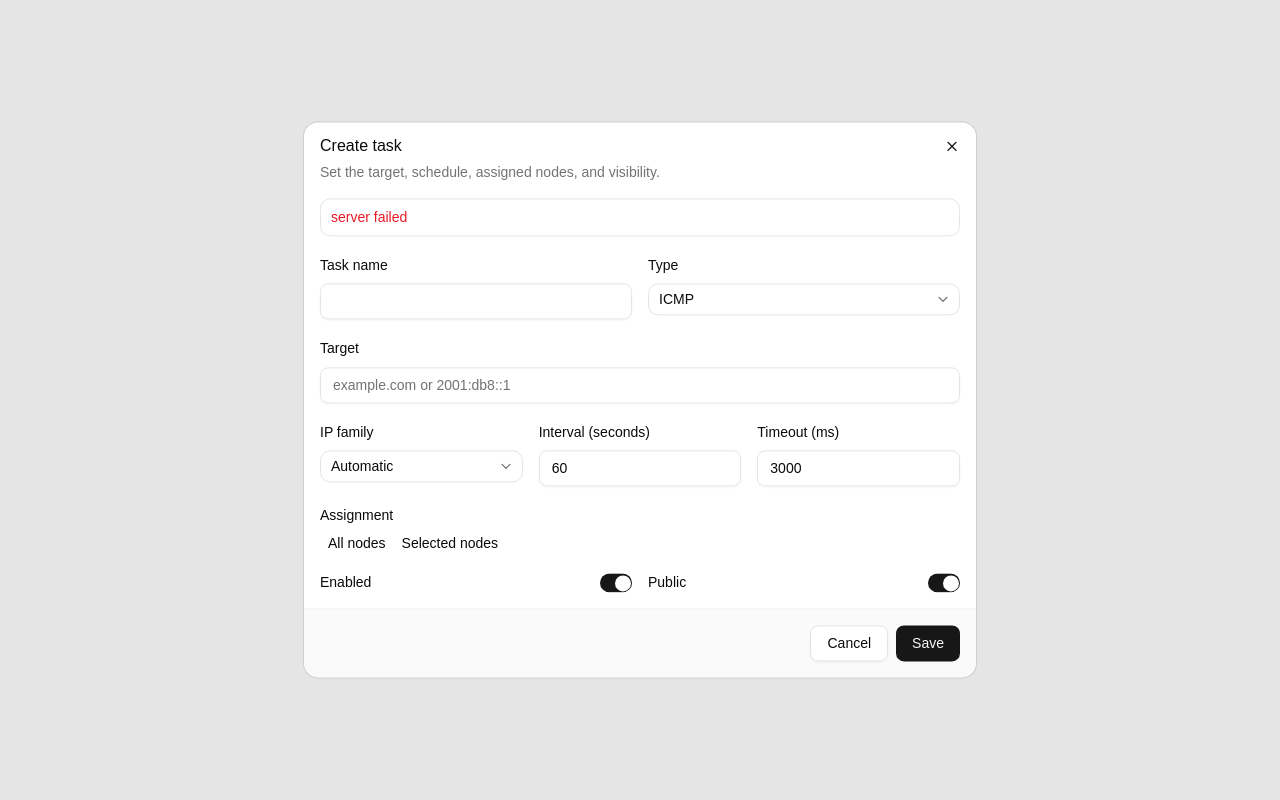
Test case: network admin components › validates required and timing fields
This screenshot has width=1280, height=800.
Expected: the text "server failed" is shown, [331,209,407,225]
Click the button "Save" at (928, 644), box [896,626,960,662]
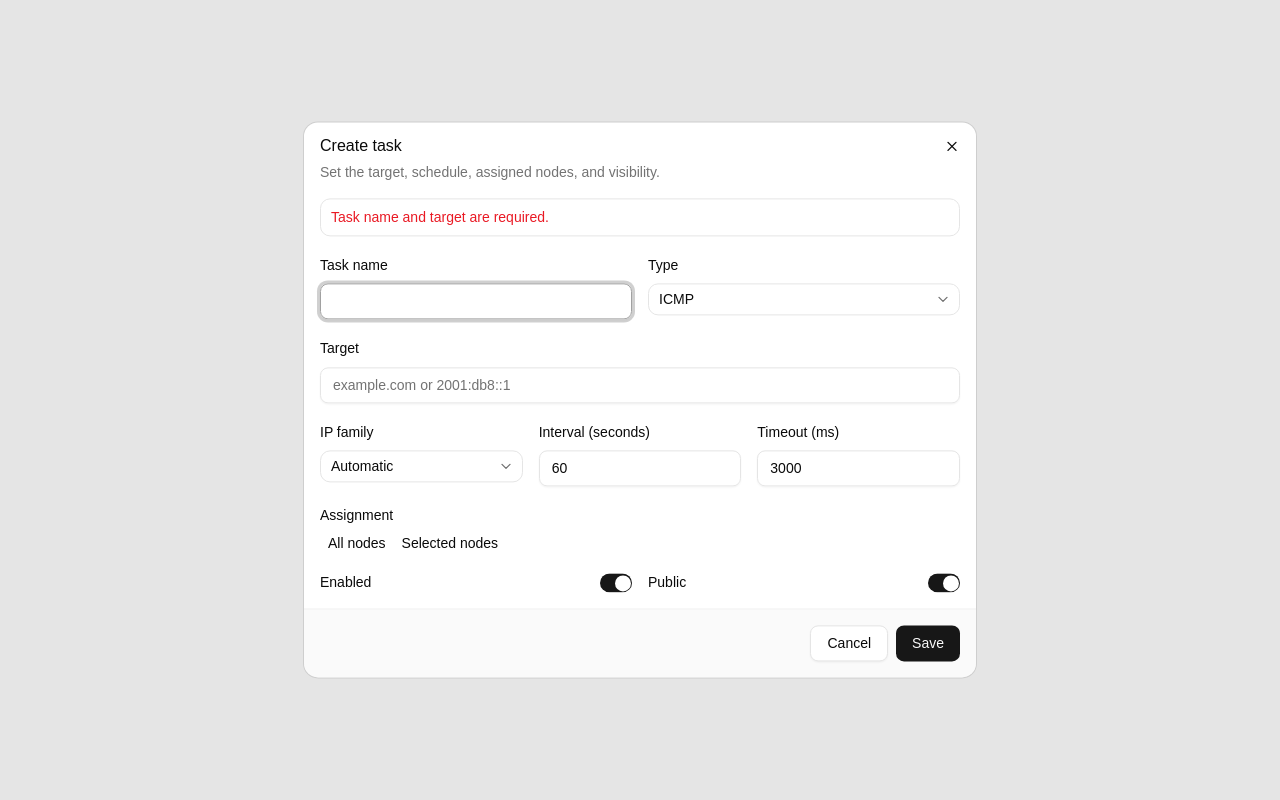
Expected: the text "Task name and target are required." is shown, [331,209,549,225]
